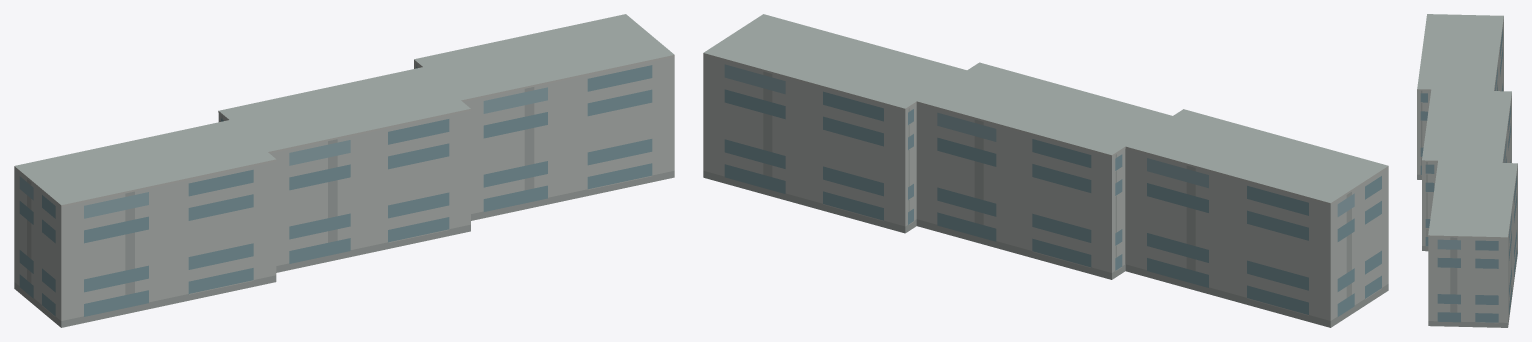
Rendered from residential-6f676793-8b04-40e0-aaed-d00bbb7e6e86.glb.
3 views of the same model, side by side, from view 1: azimuth 30°, elevation 25°; view 2: azimuth 150°, elevation 25°; view 3: azimuth 270°, elevation 25° (orthographic). The views are drawn at different scales.
Visible parts, largest first — view 1: residential-6f676793-8b04-40e0-aaed-d00bbb7e6e86.tmp; view 2: residential-6f676793-8b04-40e0-aaed-d00bbb7e6e86.tmp; view 3: residential-6f676793-8b04-40e0-aaed-d00bbb7e6e86.tmp.
Boxes of the visible parts, x1=… form: residential-6f676793-8b04-40e0-aaed-d00bbb7e6e86.tmp: x1=14, y1=14, x2=674, y2=327; residential-6f676793-8b04-40e0-aaed-d00bbb7e6e86.tmp: x1=703, y1=14, x2=1388, y2=327; residential-6f676793-8b04-40e0-aaed-d00bbb7e6e86.tmp: x1=1417, y1=14, x2=1517, y2=327.
Size of the model in its own units: 80.59 by 15.25 by 15.36.
